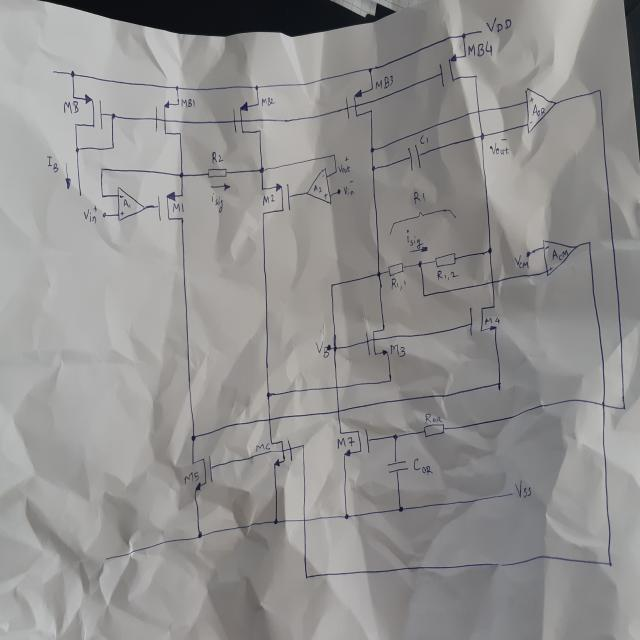capacitor: (408, 143, 422, 172), (386, 458, 408, 474)
crossover: (335, 407, 341, 415), (490, 278, 495, 286), (476, 107, 481, 115), (334, 383, 339, 390), (601, 401, 606, 407), (267, 416, 271, 422), (302, 517, 307, 521)
junction: (190, 432, 197, 442), (392, 432, 399, 441), (398, 504, 404, 514), (197, 530, 203, 540), (479, 132, 486, 140), (487, 246, 493, 255), (110, 111, 116, 120), (70, 69, 76, 78), (621, 403, 627, 412), (258, 166, 264, 174), (74, 146, 80, 154), (369, 146, 375, 154), (178, 172, 184, 180), (266, 391, 272, 399), (387, 376, 393, 384), (460, 32, 466, 40), (376, 270, 382, 278), (586, 239, 592, 247), (497, 381, 502, 390), (597, 86, 602, 95), (417, 260, 423, 267), (273, 518, 279, 525), (174, 84, 180, 91), (99, 166, 105, 173), (344, 512, 349, 520), (304, 573, 309, 581), (607, 559, 612, 567), (371, 165, 376, 172), (254, 84, 259, 91), (367, 66, 372, 73), (110, 143, 115, 150), (100, 192, 105, 199), (301, 442, 305, 450), (333, 345, 337, 353), (422, 292, 426, 299), (330, 282, 334, 288), (332, 152, 336, 158), (334, 168, 337, 174)
resistor: (434, 252, 456, 268), (423, 422, 445, 438), (207, 167, 229, 180), (387, 262, 404, 278)
terminal: (101, 210, 107, 220), (525, 249, 531, 258), (326, 344, 331, 351), (52, 68, 56, 76), (336, 187, 340, 195), (78, 190, 83, 196), (105, 555, 109, 562), (479, 28, 482, 34), (510, 491, 513, 496)
text: (486, 15, 512, 32), (404, 228, 424, 250), (468, 42, 494, 58), (489, 137, 511, 155), (412, 458, 432, 475), (515, 480, 532, 499), (373, 74, 393, 90), (83, 203, 98, 224), (210, 191, 224, 213), (46, 154, 60, 175), (316, 339, 331, 358), (389, 342, 406, 358), (62, 99, 79, 115), (436, 269, 457, 281), (183, 470, 199, 485), (338, 157, 350, 175), (391, 278, 406, 292), (179, 96, 195, 109), (552, 248, 568, 261), (514, 255, 528, 269), (343, 180, 354, 197), (413, 190, 426, 204), (260, 95, 275, 107), (262, 194, 277, 206), (426, 414, 443, 424), (484, 316, 501, 326), (532, 104, 546, 116), (255, 441, 270, 452), (211, 151, 223, 164), (172, 200, 184, 213), (337, 437, 347, 449), (420, 134, 430, 145), (123, 196, 131, 209), (313, 185, 322, 192), (118, 192, 125, 200), (120, 210, 126, 218), (530, 95, 534, 104), (544, 244, 550, 250), (323, 190, 327, 198), (548, 266, 554, 271), (321, 173, 325, 180), (529, 120, 534, 125)
transistor: (438, 52, 479, 88), (70, 92, 104, 131), (259, 183, 292, 218), (156, 188, 188, 224), (153, 101, 184, 138), (337, 427, 371, 460), (467, 303, 499, 338), (232, 101, 262, 137), (343, 88, 376, 120), (188, 456, 215, 492), (365, 327, 389, 358), (270, 439, 292, 468)
